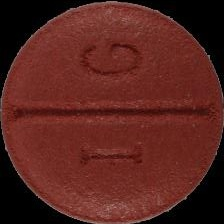31722-267: (0, 0, 224, 224)
